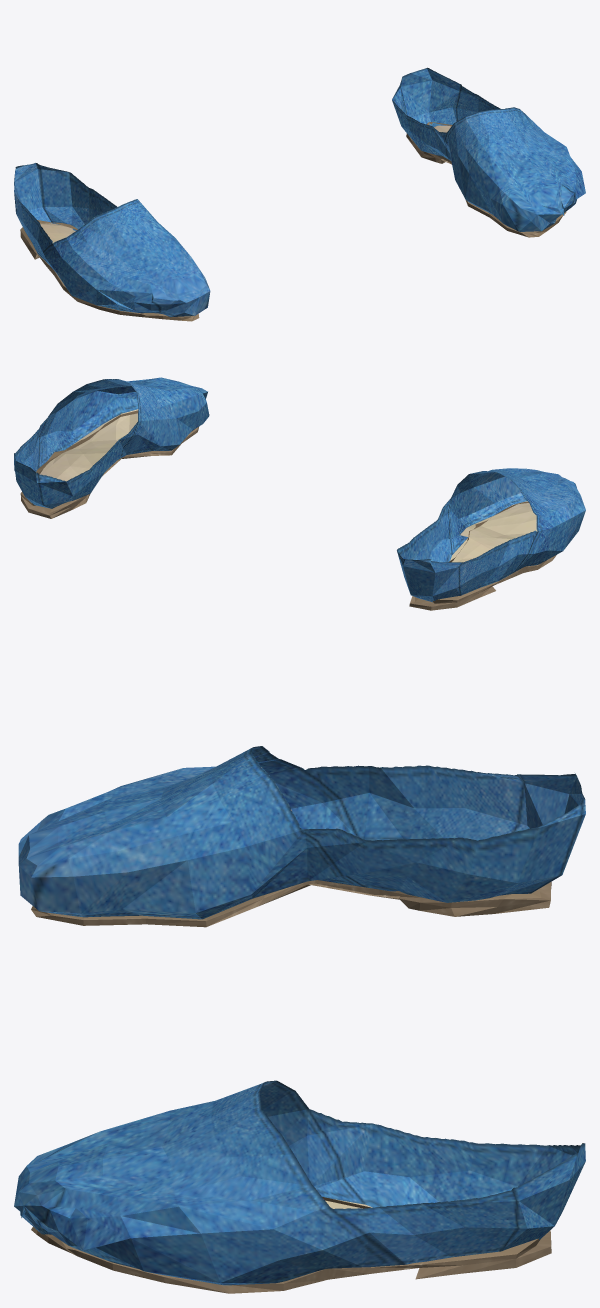
File: mhw_dressupdoc_domsjeans1.glb
3 renders of one model, top to bottom at view 1: azimuth 30°, elevation 25°; view 2: azimuth 150°, elevation 25°; view 3: azimuth 270°, elevation 25°, orthographic. The views are drawn at different scales.
Parts seen in each view (by area): view 1: mhw_dressupdoc_domsjeans1; view 2: mhw_dressupdoc_domsjeans1; view 3: mhw_dressupdoc_domsjeans1.
Part boxes in pixels (box(x1,y1,x2,y2)): mhw_dressupdoc_domsjeans1: box(14, 67, 585, 321); mhw_dressupdoc_domsjeans1: box(14, 377, 585, 610); mhw_dressupdoc_domsjeans1: box(14, 746, 585, 1293).
Bounding box in the file's own units: 0.5392 × 0.1377 × 0.2873.
Materials: 1 (1 with a texture image).
